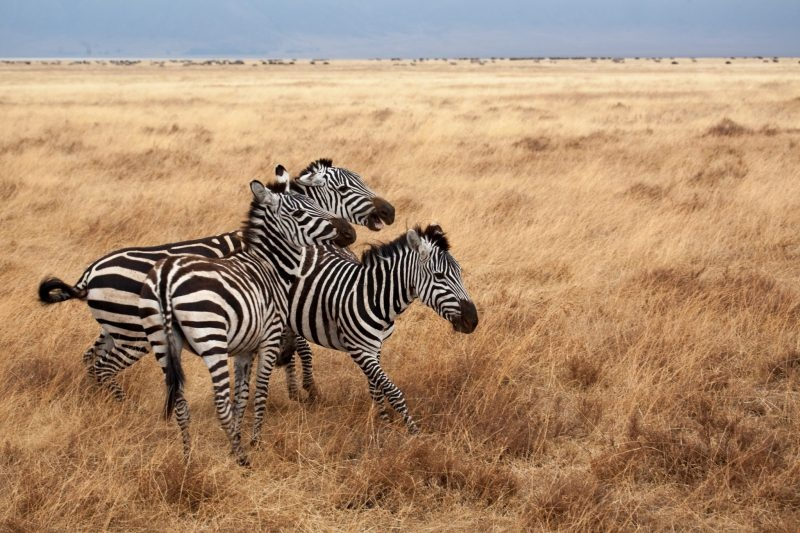zebra: (63, 152, 390, 412), (263, 215, 476, 419)
